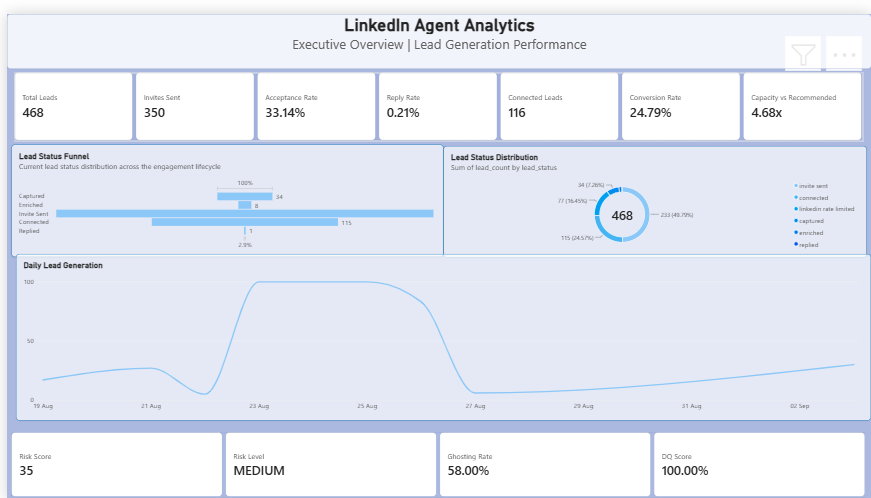

What the dashboard file says about the page in this screenshot:
{"tool":"powerbi","page":{"name":"Excecutive Overview","canvas":[1920,1080],"ordinal":0},"visuals":[{"type":"cardVisual","fields":{"Data":["Measure.Total Leads","Measure.Invites Sent","Measure.Acceptance Rate","Measure.Reply Rate","Measure.Connected Leads","Measure.Conversion Rate","Measure.Capacity vs Recommended"]},"box":[16.9,131.5,1886.2,150.8],"z":0},{"type":"textbox","title":"LinkedIn Agent Analytics","box":[0,0,1920.7,121.7],"z":1000},{"type":"funnel","title":"Lead Status Funnel","fields":{"Category":["Lead Funnel (2).Stage"],"Y":["Lead Funnel (2).Funnel Leads"]},"box":[10,290,960,250],"z":3000},{"type":"donutChart","title":"Lead Status Distribution","fields":{"Category":["analytics_lead_status.lead_status"],"Y":["Sum(analytics_lead_status.lead_count)"]},"box":[969.2,292.3,940.8,247.7],"z":4000},{"type":"lineChart","title":"Daily Lead Generation","fields":{"Y":["Sum(analytics_star_daily_trend.total_leads)"],"Category":["dim_date.full_date.Variation.Date Hierarchy.Year","dim_date.full_date.Variation.Date Hierarchy.Quarter","dim_date.full_date.Variation.Date Hierarchy.Month","dim_date.full_date.Variation.Date Hierarchy.Day"]},"box":[20,532.5,1900,370],"z":5000},{"type":"cardVisual","fields":{"Data":["Measure.Risk Score","Measure.Risk Level","Measure.Ghosting Rate","Measure.DQ Score"]},"box":[10,930,1900,142.7],"z":6000}]}

Visuals, with their boxes in screenshot pixels (x1, y1, x2, y2), scaled from the page's 1920x1080 canvas onto the 871x498 screenshot:
cardVisual - Measure.Total Leads x Measure.Invites Sent: select_region(8, 61, 863, 130)
"LinkedIn Agent Analytics" textbox: select_region(0, 0, 870, 56)
"Lead Status Funnel" funnel: select_region(5, 134, 440, 249)
"Lead Status Distribution" donutChart: select_region(440, 135, 866, 249)
"Daily Lead Generation" lineChart: select_region(9, 246, 870, 416)
cardVisual - Measure.Risk Score x Measure.Risk Level: select_region(5, 429, 866, 495)
